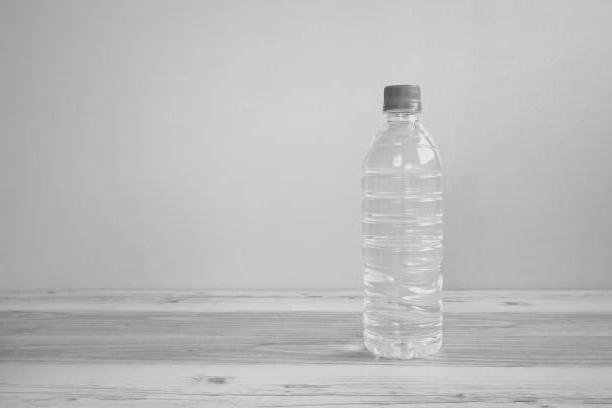bottle: (358, 76, 448, 362)
